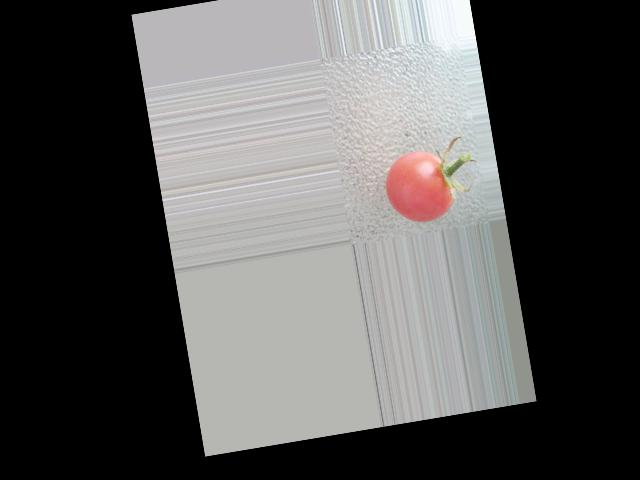tomato: (379, 145, 456, 227)
